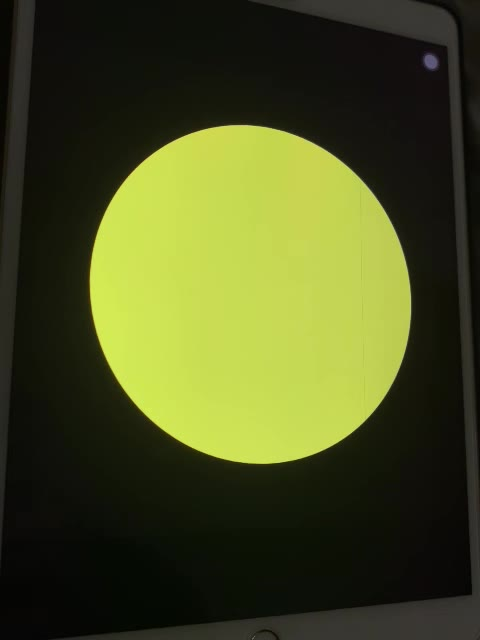left: (84, 109, 422, 475)
